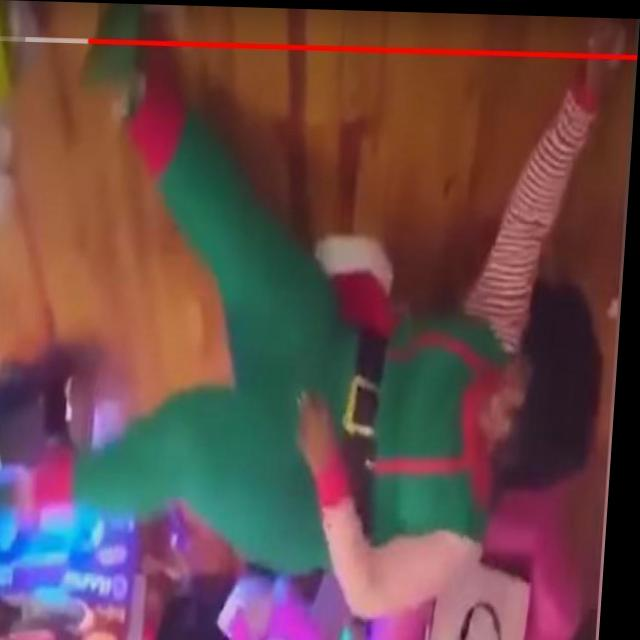fall: (19, 3, 625, 626)
